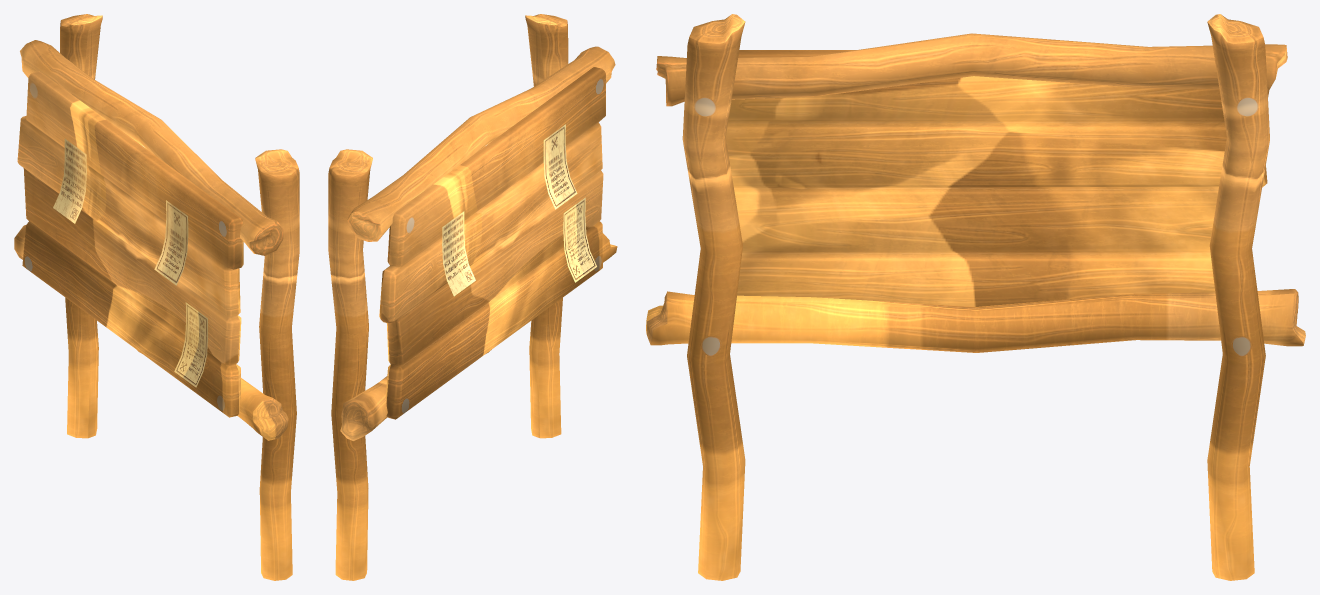
File: SM_Stylized_WantedBoard.fbx
3 views of the same model, side by side, from view 1: azimuth 30°, elevation 25°; view 2: azimuth 150°, elevation 25°; view 3: azimuth 270°, elevation 25° (orthographic). The views are drawn at different scales.
Visible parts, largest first — view 1: SM_Stylized_WantedBoard_LOD0; view 2: SM_Stylized_WantedBoard_LOD0; view 3: SM_Stylized_WantedBoard_LOD0.
Boxes of the visible parts, box(x1,y1,x2,y2) form: SM_Stylized_WantedBoard_LOD0: box(14, 14, 299, 580); SM_Stylized_WantedBoard_LOD0: box(328, 14, 617, 580); SM_Stylized_WantedBoard_LOD0: box(646, 14, 1305, 580).
Bounding box in the file's own units: 41.88 × 214 × 198.
